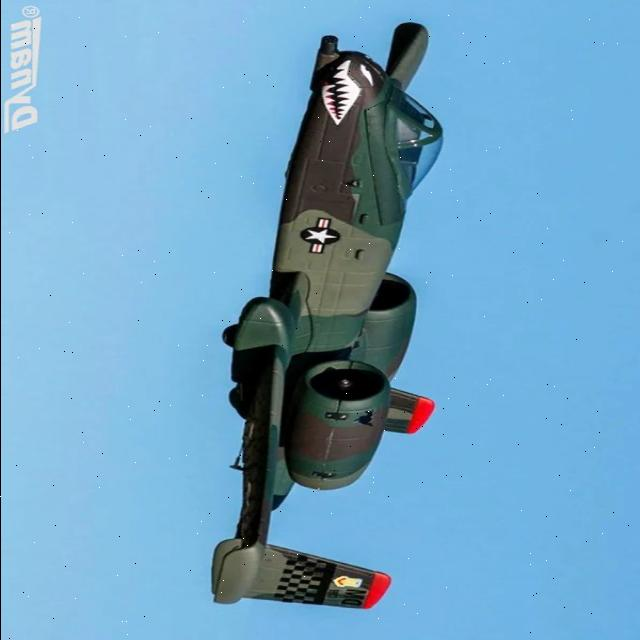A10: (162, 11, 468, 624)
